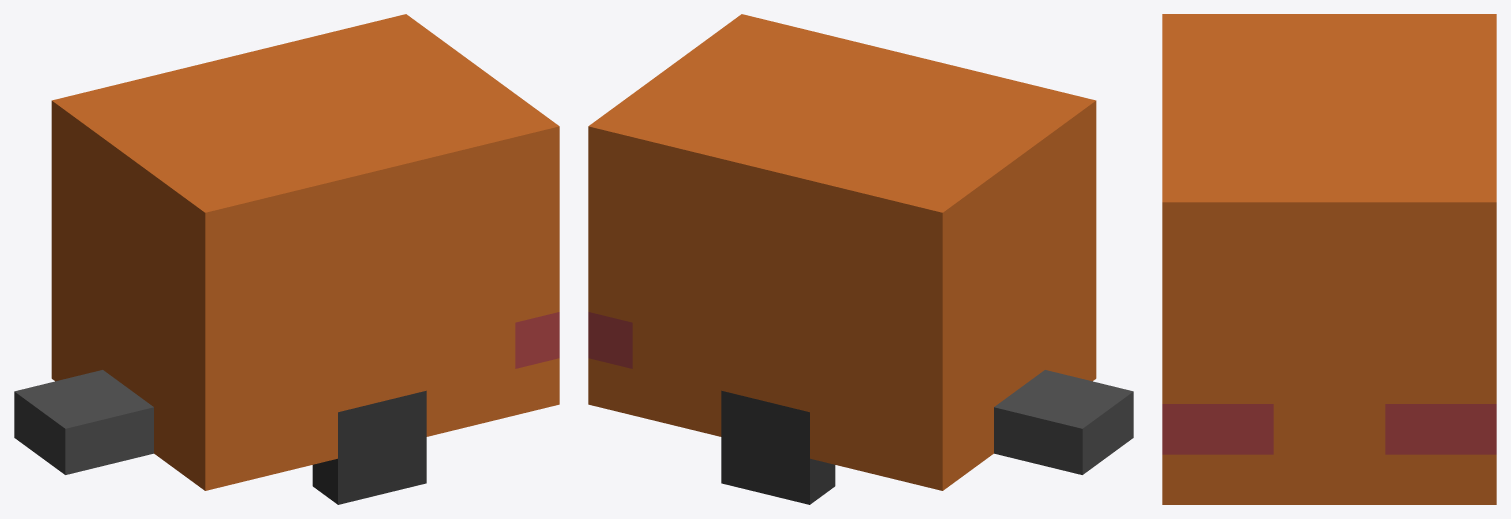
File: car-trailer-v2-orange.gltf
The picture shows the model from 3 angles, left to right: view 1: azimuth 30°, elevation 25°; view 2: azimuth 150°, elevation 25°; view 3: azimuth 270°, elevation 25°; orthographic projection. The views are drawn at different scales.
Parts seen in each view (by area): view 1: model, wheels; view 2: model, wheels; view 3: model.
Boxes of the visible parts, left/top/right/bottom form: model: left=14, top=14, right=559, bottom=490; wheels: left=312, top=390, right=426, bottom=504; model: left=588, top=14, right=1133, bottom=490; wheels: left=721, top=390, right=835, bottom=504; model: left=1162, top=14, right=1496, bottom=504.
Size of the model in its own units: 1 by 0.7 by 0.6.
2 materials, 2 textured.
